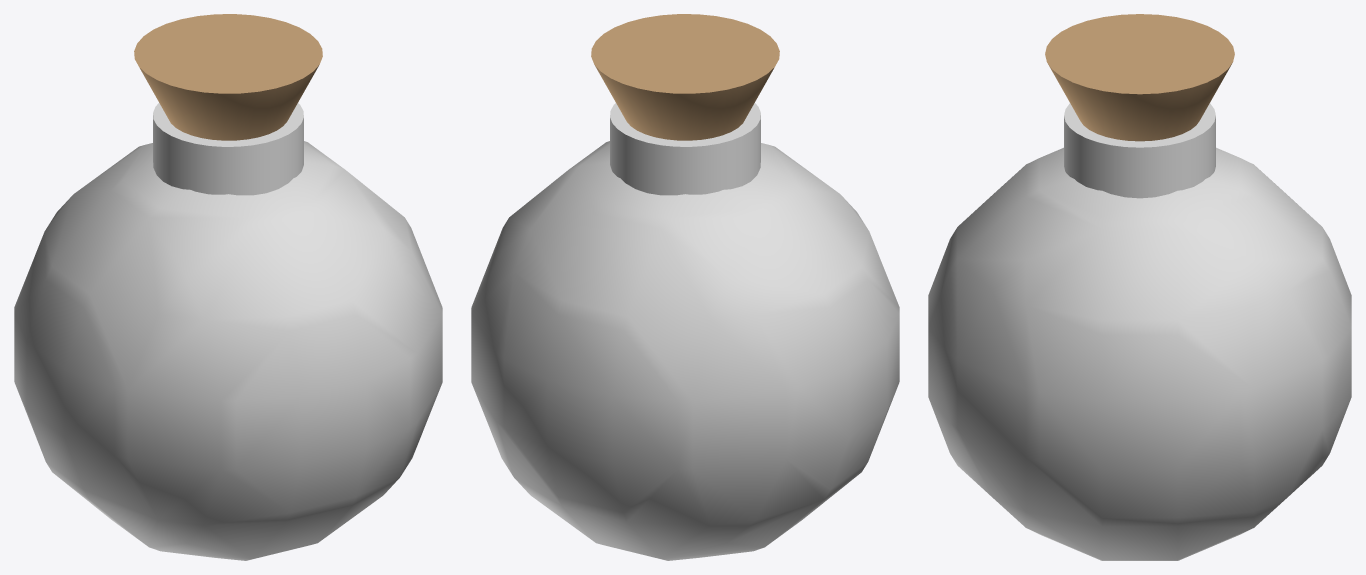
Rendered from potion.fbx.
3 renders of one model, left to right at view 1: azimuth 30°, elevation 25°; view 2: azimuth 150°, elevation 25°; view 3: azimuth 270°, elevation 25°, orthographic.
Visible parts, largest first — view 1: BottleBase, Cork, BottleNeck; view 2: BottleBase, Cork, BottleNeck; view 3: BottleBase, Cork, BottleNeck.
Part boxes in pixels (bbox=[...]): BottleBase: bbox=[14, 141, 442, 560]; Cork: bbox=[134, 14, 322, 140]; BottleNeck: bbox=[153, 103, 303, 195]; BottleBase: bbox=[471, 141, 899, 560]; Cork: bbox=[591, 14, 779, 140]; BottleNeck: bbox=[610, 103, 760, 195]; BottleBase: bbox=[928, 147, 1351, 560]; Cork: bbox=[1045, 14, 1234, 141]; BottleNeck: bbox=[1064, 103, 1215, 198].
Size of the model in its own units: 55.76 by 70.3 by 55.76.
